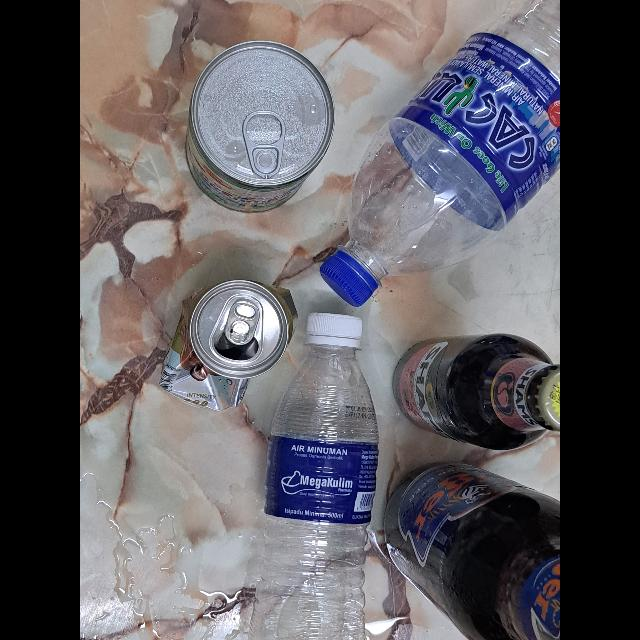aba de lata: (243, 110, 285, 178), (226, 298, 258, 346)
garrafa de vidro: (384, 460, 560, 640), (392, 334, 560, 452)
garrafa plástica: (344, 0, 560, 274), (259, 348, 381, 640)
lata: (188, 39, 334, 213), (160, 277, 300, 413)
tampa plástica: (318, 250, 378, 306), (306, 312, 362, 350)
